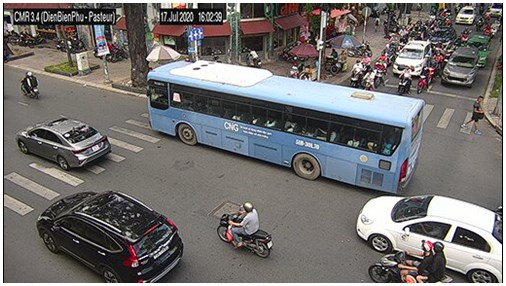di_bo: (462, 95, 483, 136)
xe_buyt: (146, 60, 425, 194)
xe_hoi: (36, 190, 184, 283), (355, 194, 501, 283), (16, 118, 111, 169), (442, 46, 479, 86), (431, 27, 456, 46), (456, 5, 476, 25)
xe_may: (368, 240, 453, 283), (217, 201, 273, 259), (20, 71, 41, 99), (396, 66, 414, 93), (350, 60, 364, 88), (373, 59, 385, 88), (417, 65, 429, 92), (245, 48, 262, 66), (364, 70, 374, 91), (428, 60, 436, 83), (384, 44, 392, 64), (491, 20, 499, 38), (475, 16, 483, 31), (462, 26, 469, 43)
xe_taxi: (393, 40, 432, 74), (468, 35, 491, 68)
